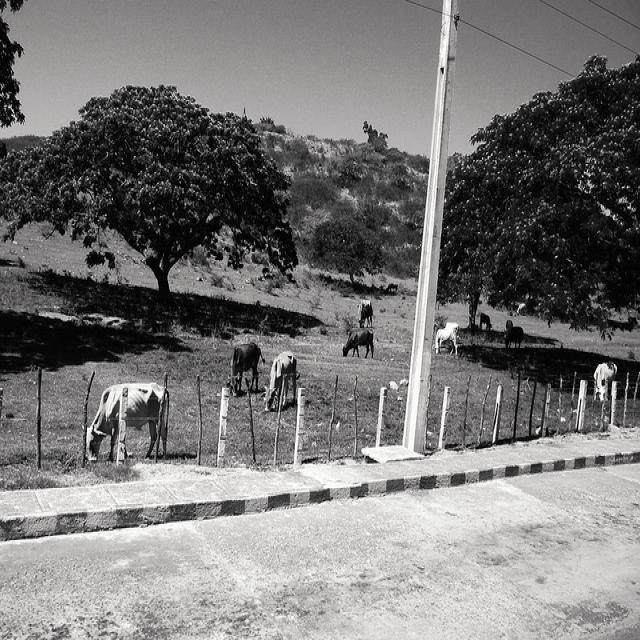cow: (79, 379, 169, 460), (262, 348, 297, 411), (226, 340, 264, 393), (340, 325, 372, 356), (592, 359, 616, 400), (430, 327, 457, 356), (503, 324, 523, 347), (356, 304, 371, 327), (355, 297, 370, 312), (479, 311, 490, 329), (443, 320, 458, 332), (503, 318, 512, 334), (516, 301, 525, 315)
